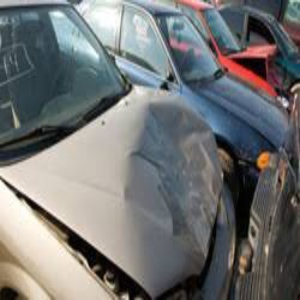bonnet: (101, 102, 222, 231)
